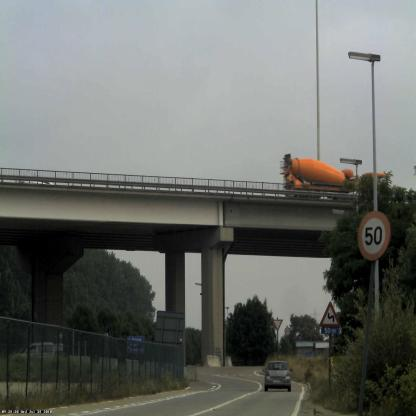other: (272, 150, 358, 194)
